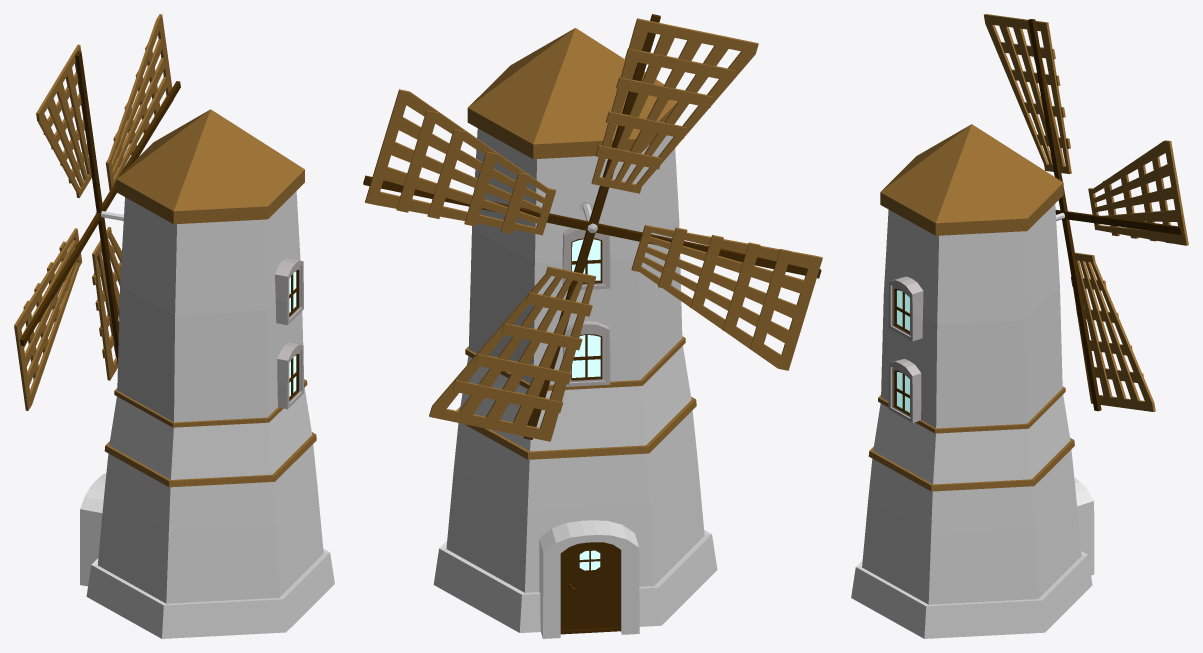
The model's file is MillC.fbx.
3 renders of one model, left to right at view 1: azimuth 30°, elevation 25°; view 2: azimuth 150°, elevation 25°; view 3: azimuth 270°, elevation 25°, orthographic. The views are drawn at different scales.
Parts seen in each view (by area): view 1: Mill; view 2: Mill; view 3: Mill.
Boxes of the visible parts, bbox=[...] form: Mill: bbox=[14, 14, 334, 638]; Mill: bbox=[363, 14, 822, 638]; Mill: bbox=[851, 14, 1188, 638].
Size of the model in its own units: 3973 by 6701 by 3903.
